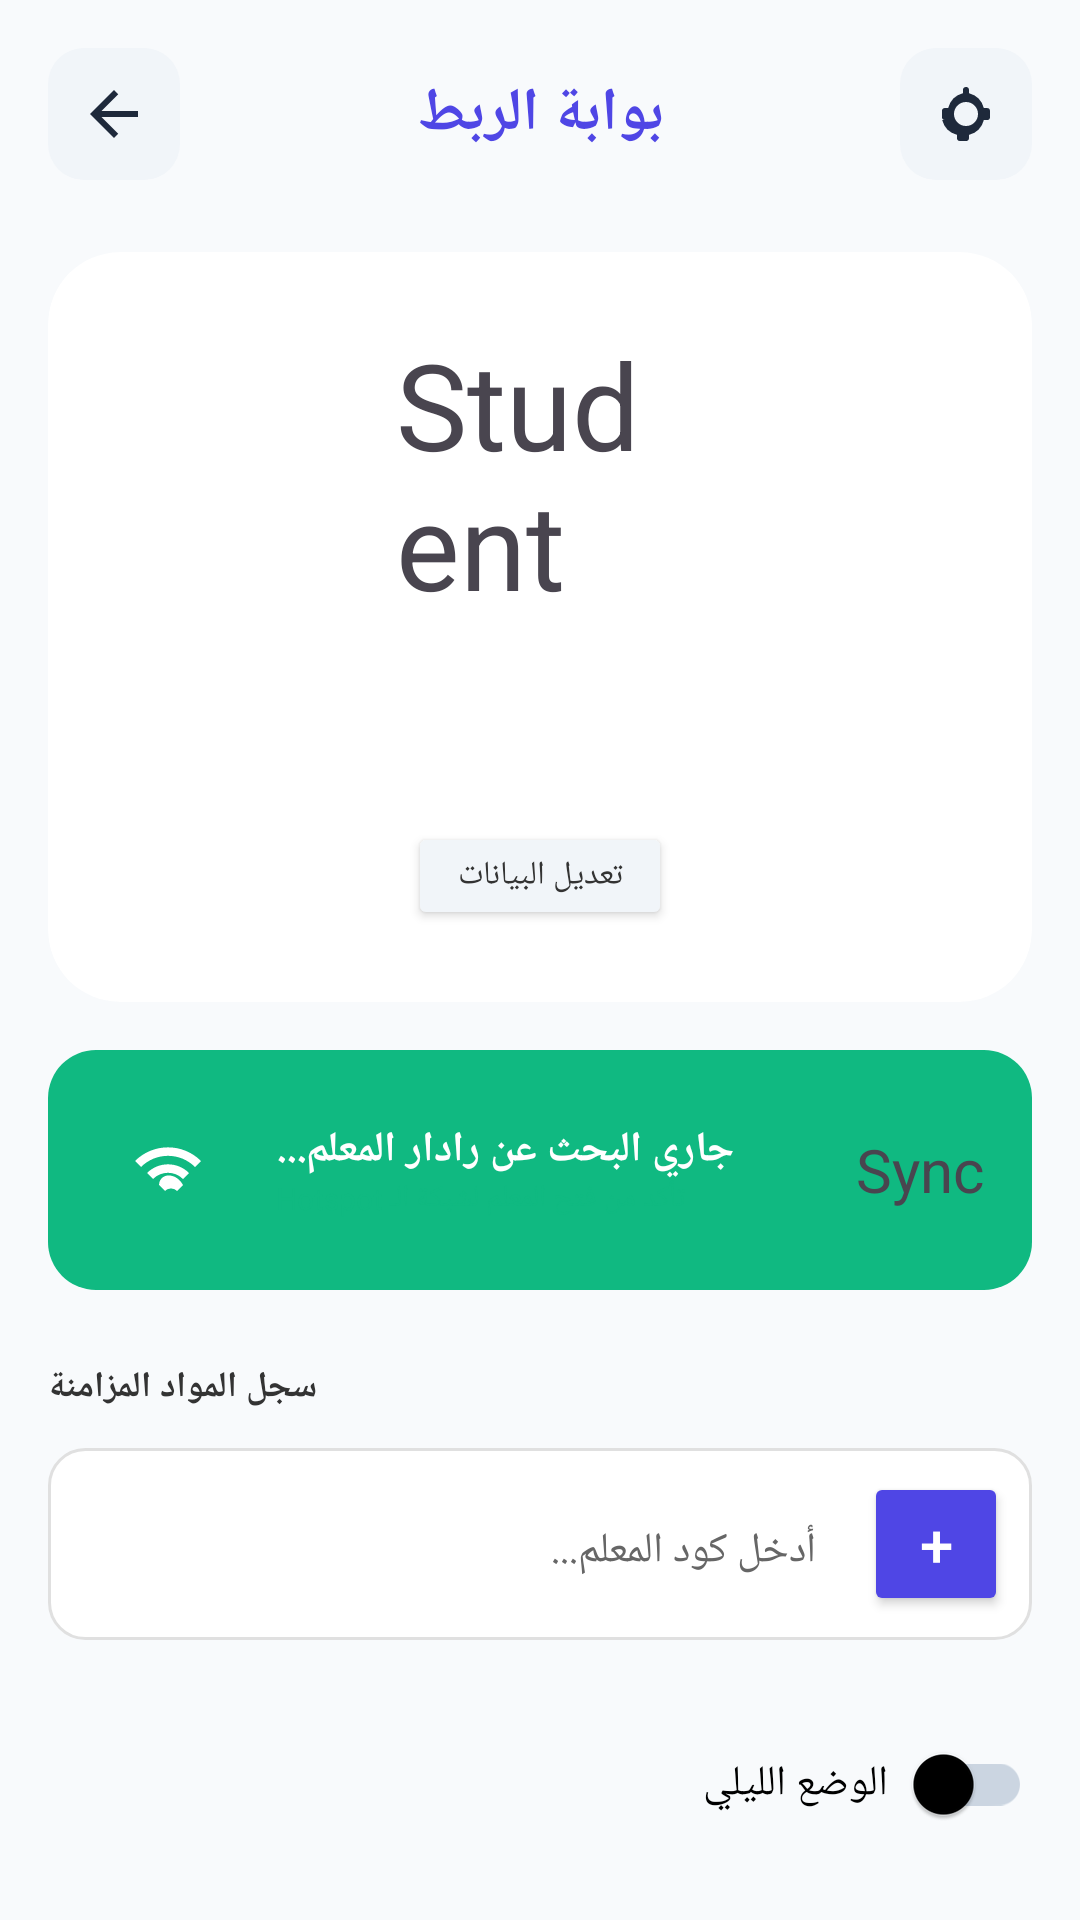

Icon bounding boxes for this 1080px×1920px phone screenshot, format (x1=x1, y1=y1, x2=x2, y2=y2):
arrow back: (x1=90, y1=90, x2=138, y2=138)
wifi: (x1=135, y1=1147, x2=201, y2=1191)
